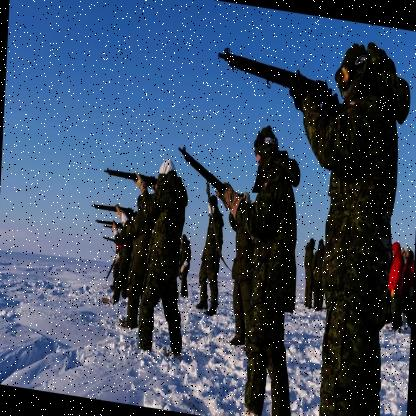rifle: (207, 38, 345, 126), (172, 144, 233, 198), (100, 162, 158, 192), (84, 196, 136, 219)
